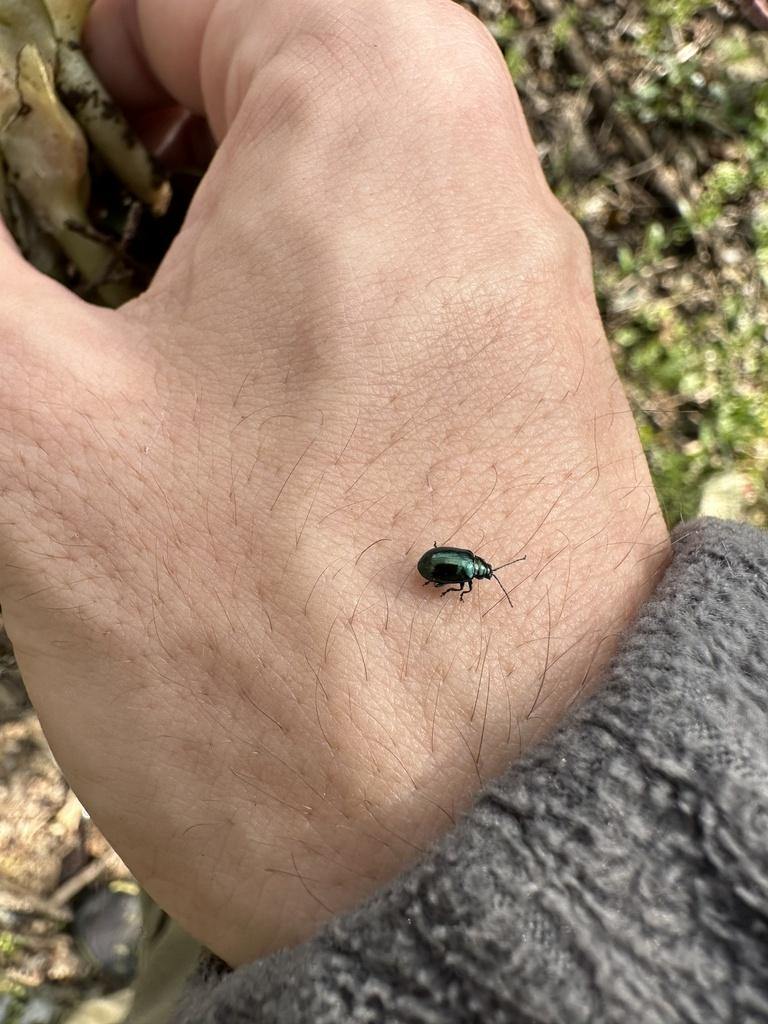flea_beetle: (386, 508, 543, 628)
